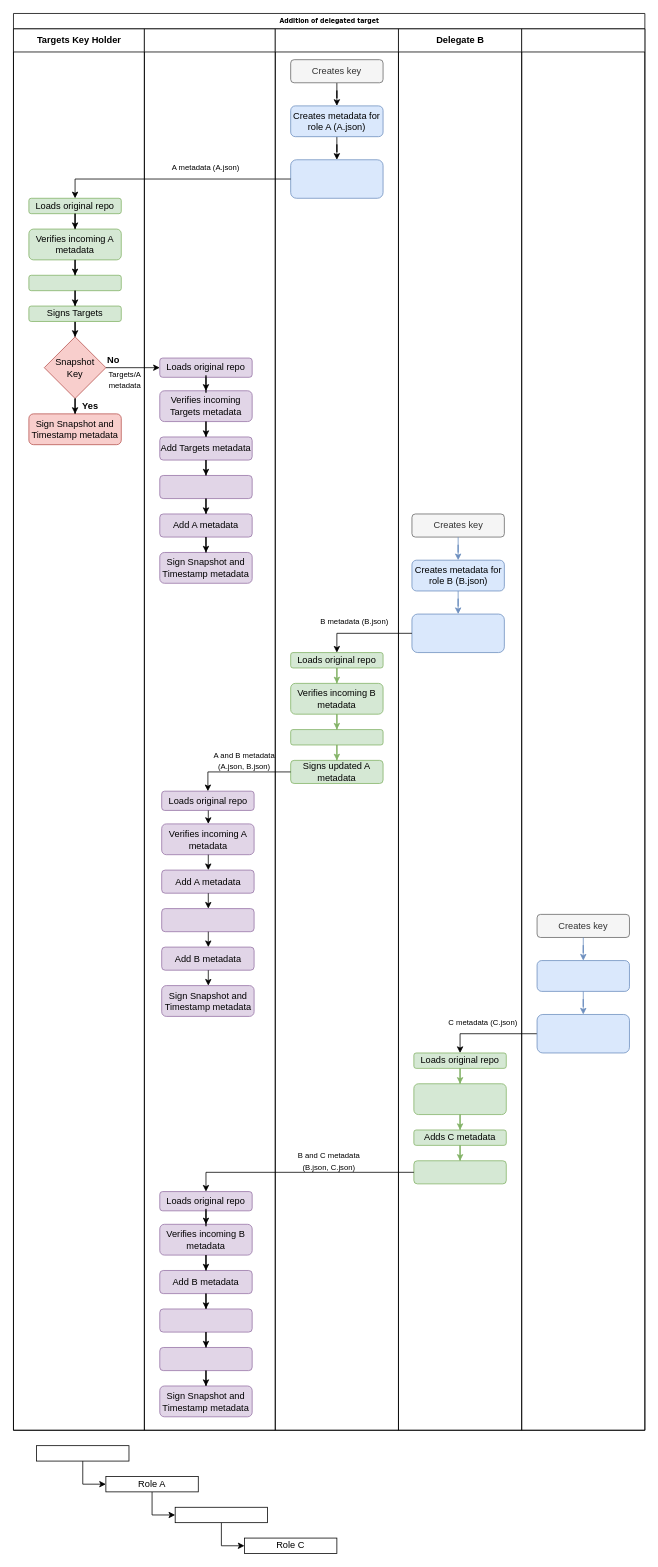
The diagram is 658 pixels wide and 1567 high, and some of its shapes have lost their labels. The shapes that lost their labels are listed below. From the top down, each one's box as (x1, y1, x2, y2) in pixels, then its label:
(290, 159, 383, 198): Signs role A metadata using created key
(28, 275, 121, 291): Adds A metadata
(159, 475, 252, 499): Verify incoming A metadata
(411, 613, 504, 653): Signs role B metadata using created key
(144, 28, 275, 1430): Snapshot/Timestamp Keyholder
(275, 28, 398, 1430): Delegate A
(290, 729, 383, 745): Adds B metadata
(521, 28, 645, 1430): Delegate C
(161, 908, 254, 932): Verify incoming B metadata
(536, 960, 629, 991): Creates metadata for role C (C.json)
(536, 1014, 629, 1053): Signs role C metadata using created key
(413, 1083, 506, 1115): Verifies incoming C metadata
(413, 1160, 506, 1184): Signs updated B metadata
(159, 1308, 252, 1332): Verify incoming C metadata
(159, 1347, 252, 1371): Add C metadata
(36, 1445, 129, 1461): Targets
(174, 1507, 268, 1523): Role B
